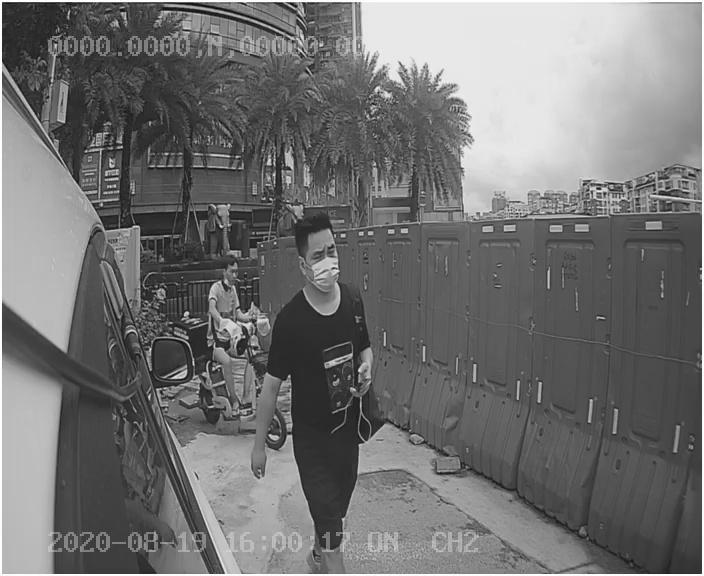person: (252, 211, 396, 525)
